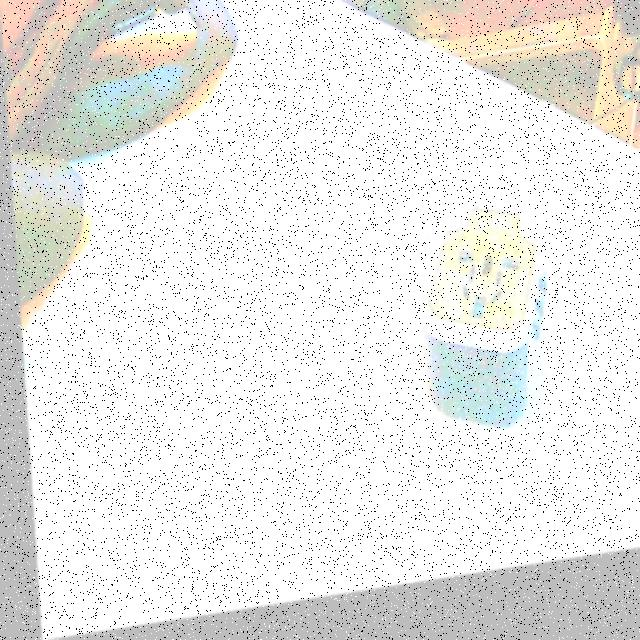adapter: (409, 205, 550, 452)
